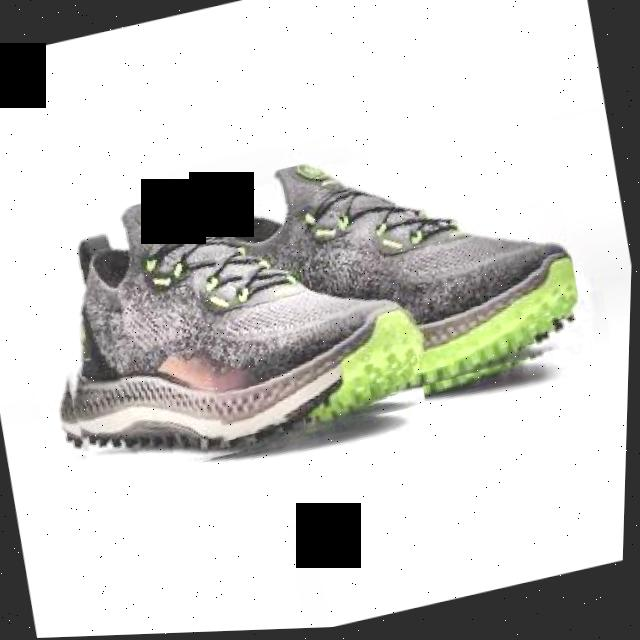shoe: (169, 111, 597, 446), (27, 149, 436, 496)
